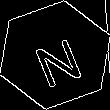N_N: (25, 24, 85, 86)
